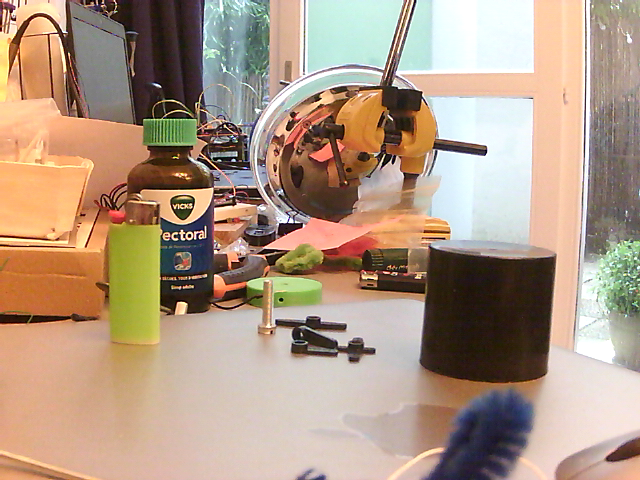bolt: (253, 280, 279, 336)
lighter: (109, 194, 163, 343), (357, 271, 427, 294)
